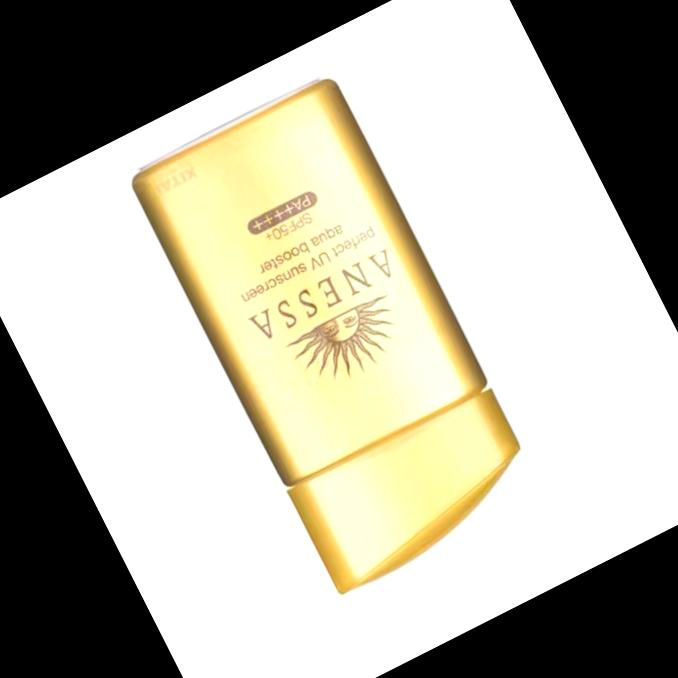cosmetic: (127, 75, 549, 599)
